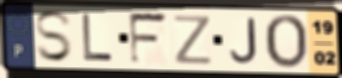F: (126, 10, 171, 68)
J: (228, 16, 260, 66)
L: (80, 11, 115, 64)
O: (262, 13, 310, 71)
S: (33, 9, 76, 65)
Z: (172, 13, 214, 67)
